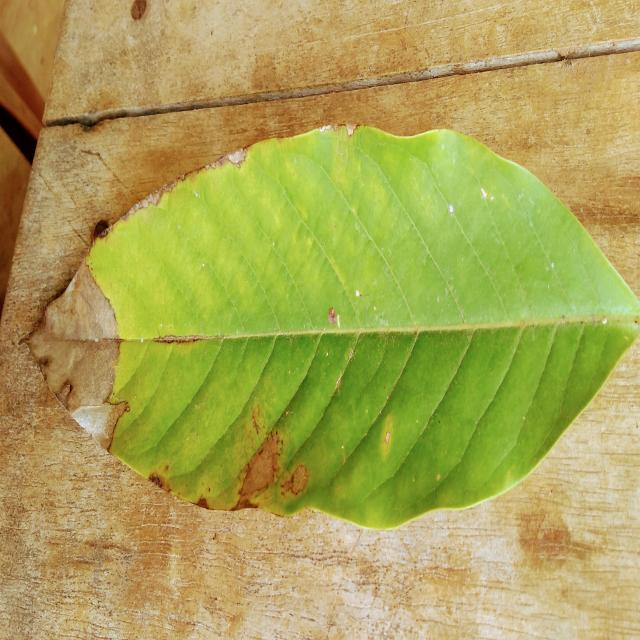leaf spot: (29, 127, 640, 527)
